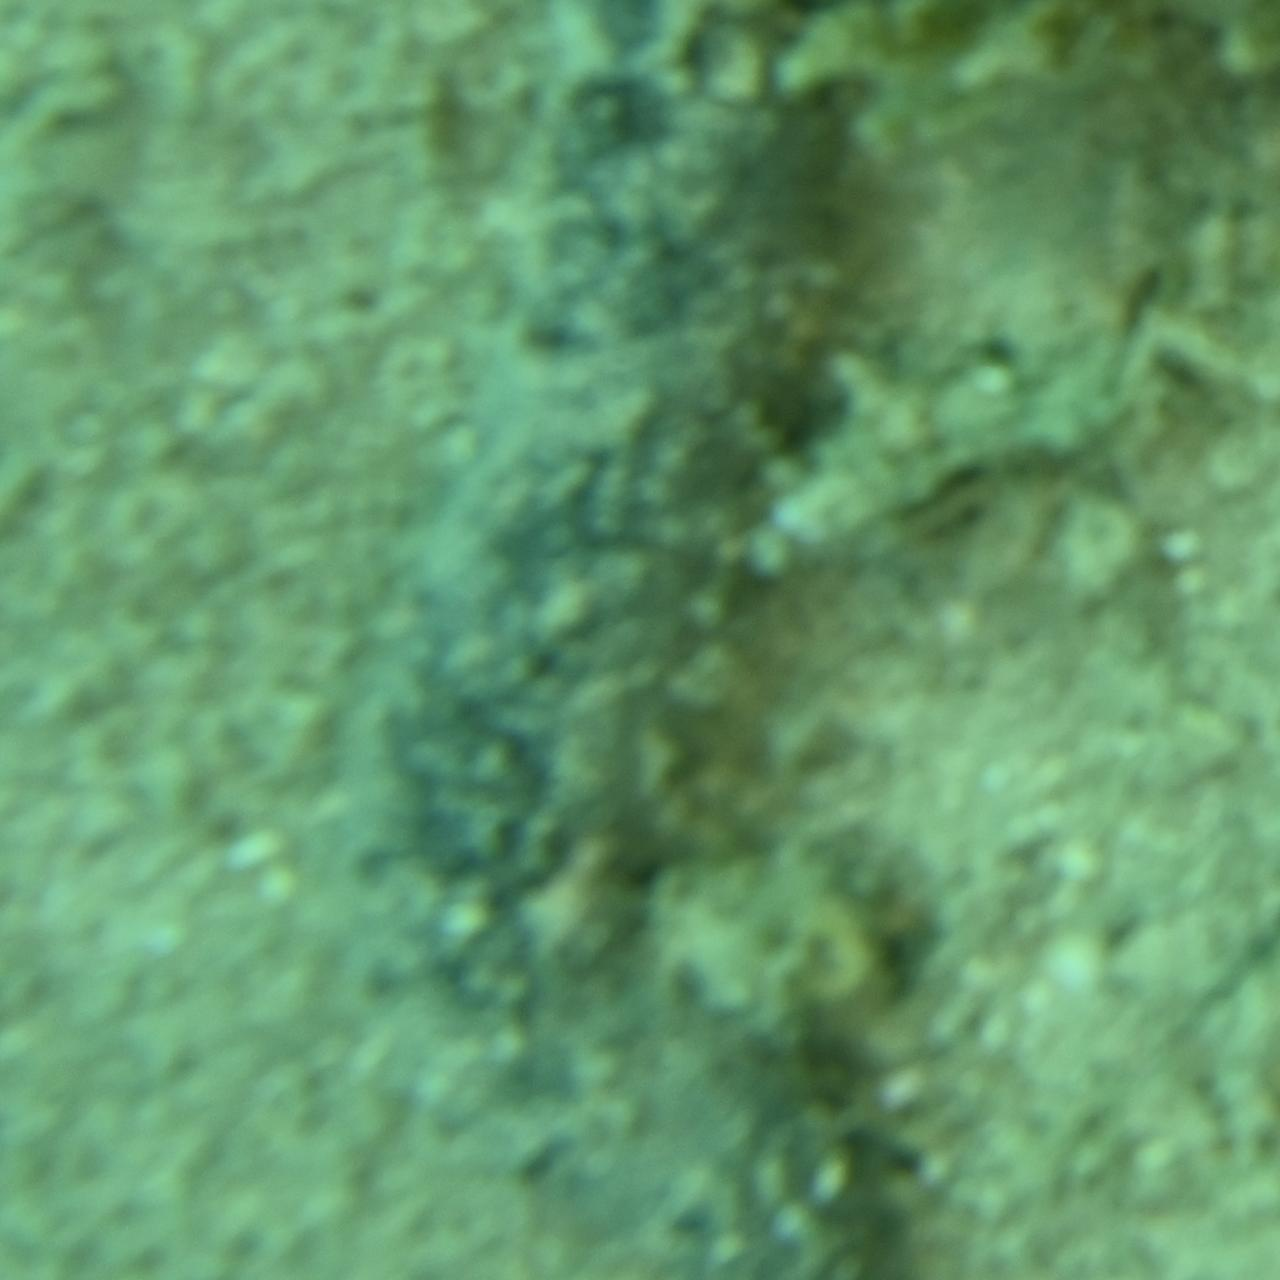Holothuria tubulosa: (345, 0, 935, 1280)
